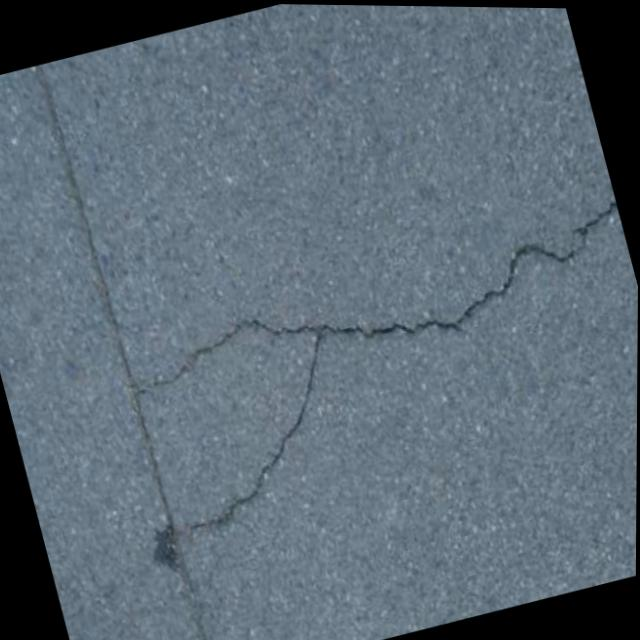Crack: (116, 166, 639, 551), (20, 56, 232, 640)
